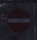No entry: (5, 6, 32, 35)
